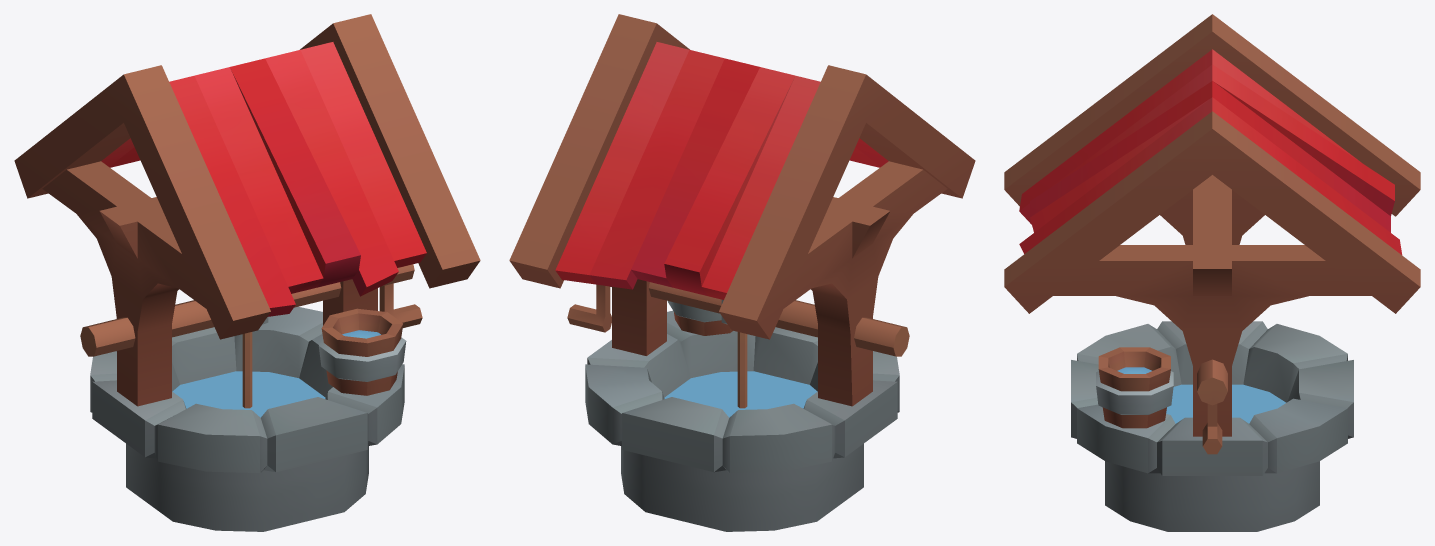
The model's file is kay-poco-vermelho.gltf.
3 renders of one model, left to right at view 1: azimuth 30°, elevation 25°; view 2: azimuth 150°, elevation 25°; view 3: azimuth 270°, elevation 25°, orthographic. The views are drawn at different scales.
Parts seen in each view (by area): view 1: building_well_red; view 2: building_well_red; view 3: building_well_red.
Part boxes in pixels (x1,y1,x2,y2): building_well_red: [14, 14, 480, 531]; building_well_red: [509, 14, 975, 531]; building_well_red: [1004, 14, 1420, 531].
Bounding box in the file's own units: 3.26 × 4.13 × 3.75.
1 material, 1 textured.
